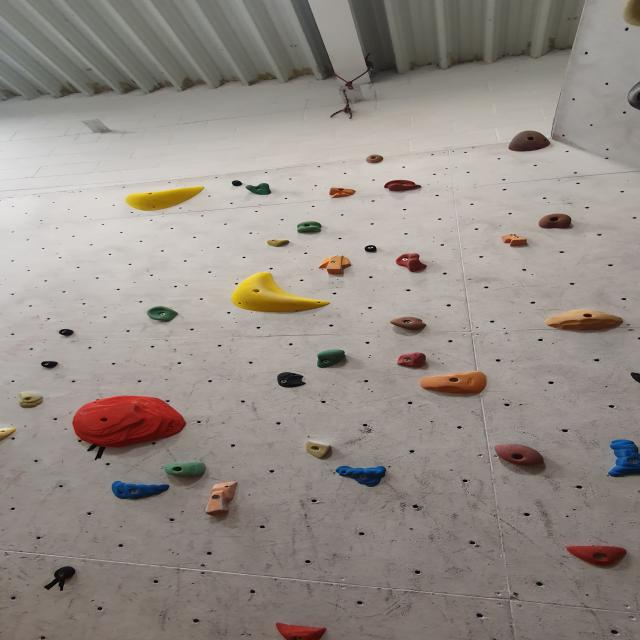Crimp: (71, 396, 192, 448), (109, 482, 173, 500), (334, 465, 389, 485), (299, 441, 337, 458), (382, 179, 423, 193), (18, 391, 46, 408), (326, 186, 361, 198), (266, 239, 294, 249)
Jug: (492, 444, 548, 467), (505, 132, 554, 154), (393, 254, 431, 274), (164, 460, 208, 477), (534, 213, 576, 230), (314, 349, 351, 368), (389, 318, 431, 334), (144, 304, 180, 322), (396, 353, 430, 370), (294, 220, 324, 234), (242, 183, 274, 195), (364, 154, 389, 164)
Pinch: (603, 438, 640, 481), (203, 480, 239, 516), (319, 256, 357, 278), (48, 566, 82, 585), (498, 235, 534, 249), (361, 244, 382, 253), (38, 361, 61, 369), (57, 327, 74, 337), (229, 180, 243, 188)
Sloper: (228, 271, 334, 313), (123, 186, 210, 212), (541, 312, 629, 336), (416, 372, 489, 397), (560, 546, 632, 568), (274, 624, 330, 640), (274, 370, 312, 389)
